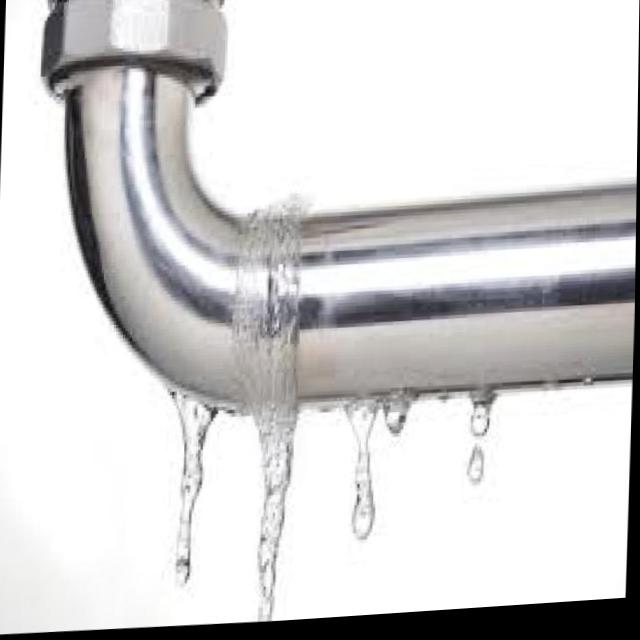leak: (233, 205, 300, 620), (171, 391, 215, 583), (345, 401, 378, 537)
